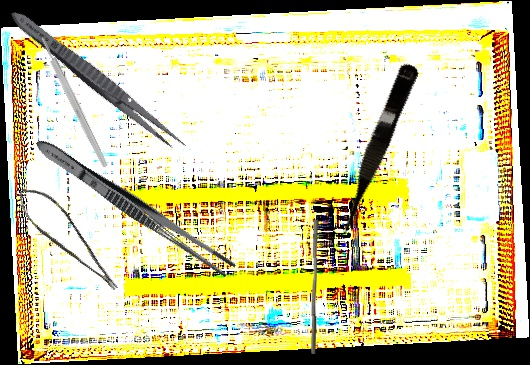Dressing Forceps: (30, 133, 239, 281), (3, 4, 192, 157)
Micro Scissor: (328, 59, 421, 243), (11, 176, 122, 307)
Pusher: (308, 219, 322, 355)
Scalpel Handle: (38, 35, 110, 169)
